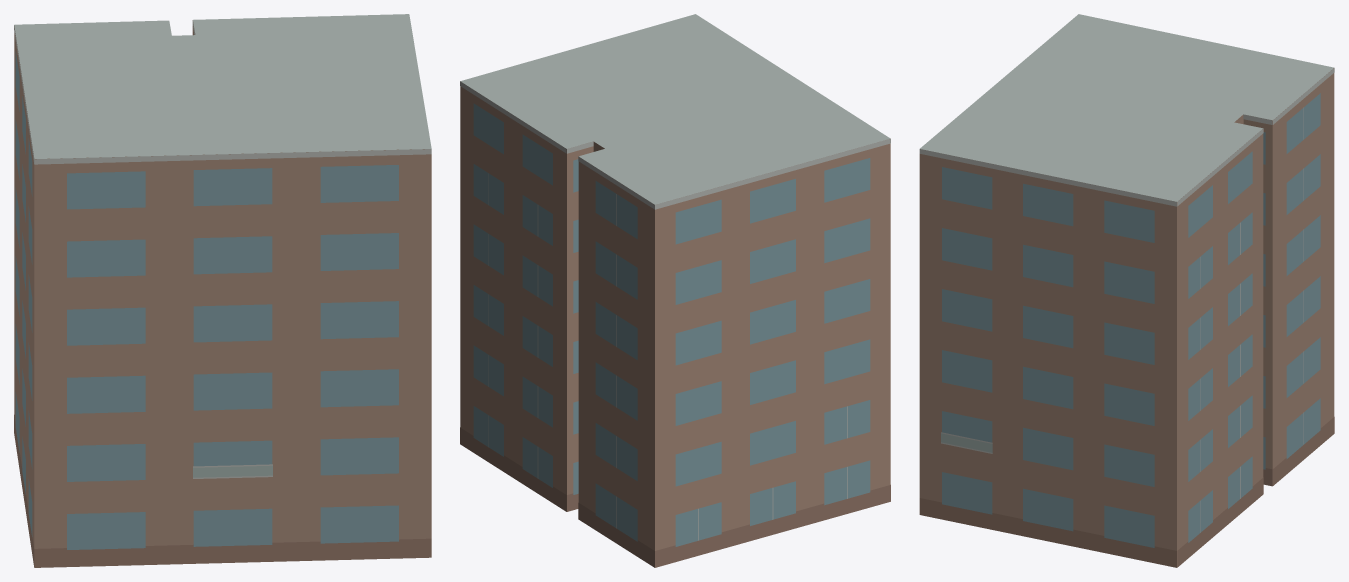
The model's file is survey-upis-32886021.glb.
The picture shows the model from 3 angles, left to right: view 1: azimuth 30°, elevation 25°; view 2: azimuth 150°, elevation 25°; view 3: azimuth 270°, elevation 25°; orthographic projection. The views are drawn at different scales.
Visible parts, largest first — view 1: survey-upis-32886021.tmp; view 2: survey-upis-32886021.tmp; view 3: survey-upis-32886021.tmp.
Boxes of the visible parts, x1,y1,x2,y2 form: survey-upis-32886021.tmp: [14, 14, 431, 567]; survey-upis-32886021.tmp: [460, 14, 890, 567]; survey-upis-32886021.tmp: [919, 14, 1334, 567].
Size of the model in its own units: 20.15 by 18.3 by 18.81.
